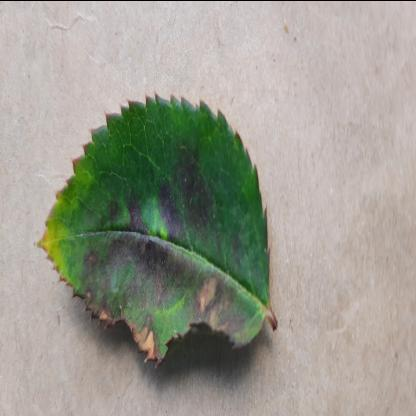powdery-mildew: (38, 90, 276, 370)
